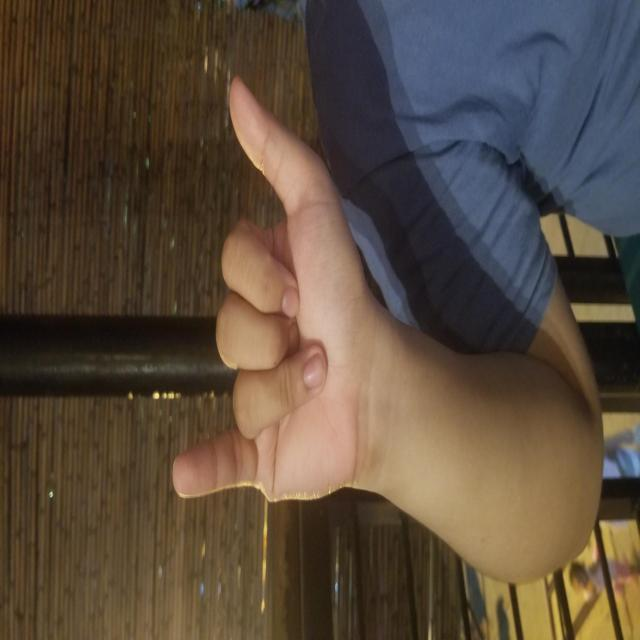Y: (152, 66, 396, 523)
